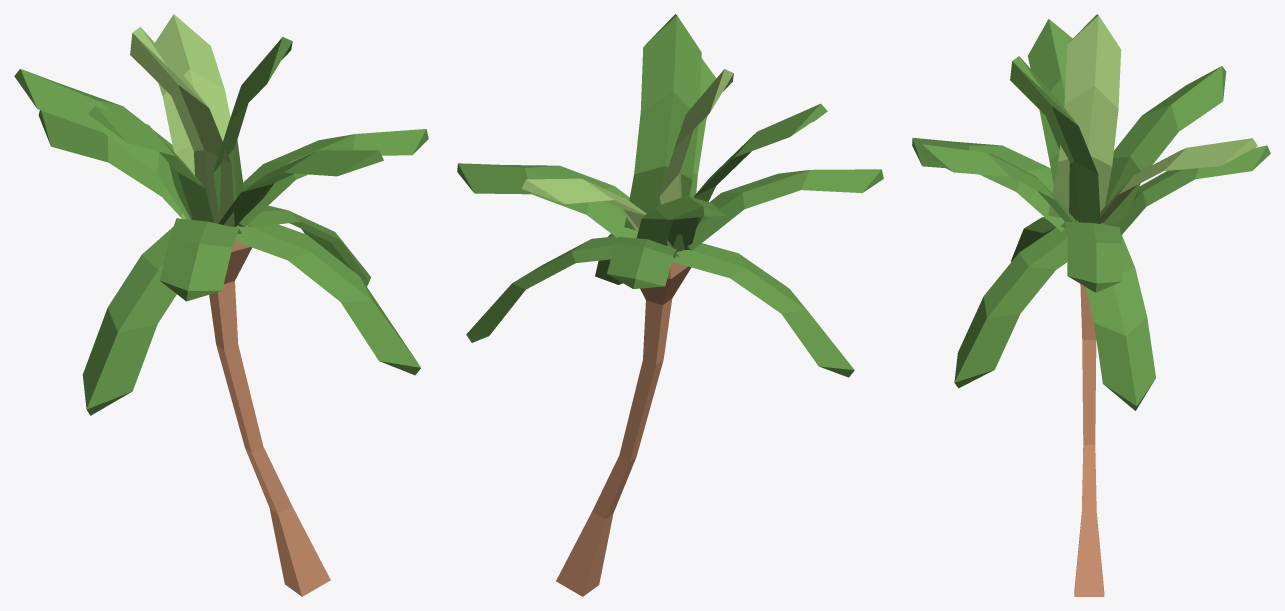
Rendered from palm2.fbx.
3 renders of one model, left to right at view 1: azimuth 30°, elevation 25°; view 2: azimuth 150°, elevation 25°; view 3: azimuth 270°, elevation 25°, orthographic. The views are drawn at different scales.
Parts seen in each view (by area): view 1: palm2; view 2: palm2; view 3: palm2.
Boxes of the visible parts, x1,y1,x2,y2 form: palm2: [14, 14, 428, 596]; palm2: [457, 14, 883, 596]; palm2: [912, 14, 1270, 596].
Size of the model in its own units: 295 by 440 by 277.
